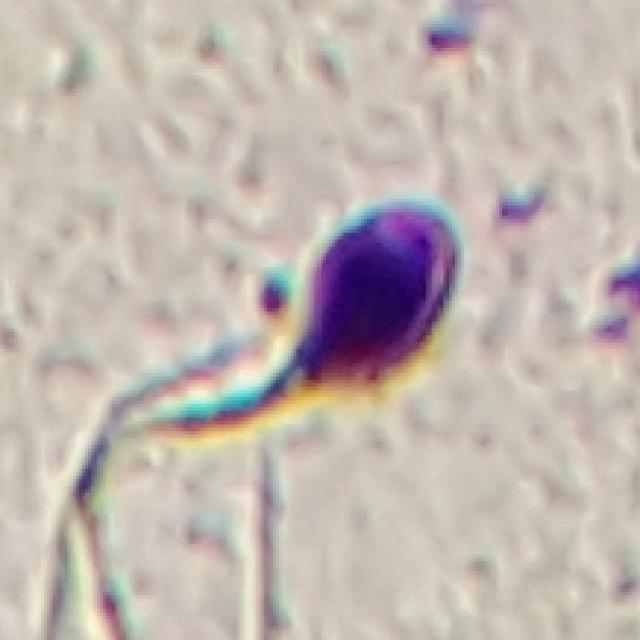normal sperm: (182, 196, 462, 436)
